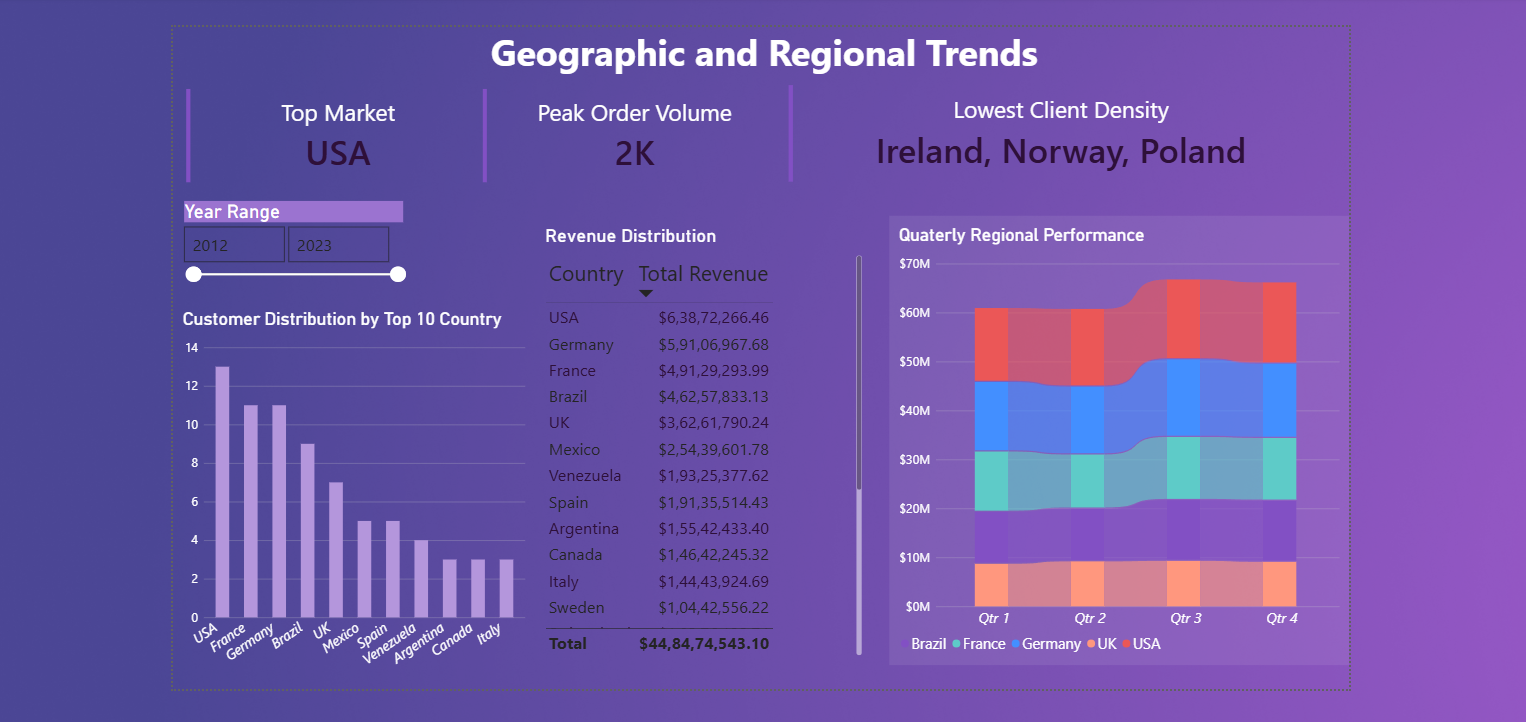

The dashboard page shown, as its layout file describes it:
{"tool":"powerbi","page":{"name":"Geographic and Regional Trends","canvas":[1920,1080],"ordinal":1},"visuals":[{"type":"textbox","box":[10.3,0,1910.1,88.5],"z":0},{"type":"cardVisual","title":"Top Market","fields":{"Data":["Min(Orders.ShipCountry)","_Measures.Total Orders"]},"box":[11.1,88.9,982.2,175.6],"z":1000},{"type":"cardVisual","fields":{"Data":["_Measures.Country With Least Customers"]},"box":[993.3,84.4,891.1,180],"z":2000},{"type":"ribbonChart","title":"Quaterly Regional Performance","fields":{"Category":["Orders.OrderDate.Variation.Date Hierarchy.Quarter"],"Series":["Orders.ShipCountry"],"Y":["_Measures.Total Revenue"]},"box":[1168.9,308.9,751.1,733.3],"z":3000},{"type":"slicer","fields":{"Values":["Orders.OrderDate.Variation.Date Hierarchy.Year"]},"box":[11.1,284.4,373.3,231.1],"z":4000},{"type":"columnChart","title":"Customer Distribution by Top 10 Country","fields":{"Category":["Customers.Country"],"Y":["CountNonNull(Customers.CustomerID)"]},"box":[0,444.4,591.1,635.6],"z":5000},{"type":"tableEx","title":"Revenue Distribution ","fields":{"Values":["Orders.ShipCountry","_Measures.Total Revenue"]},"box":[591.1,308.9,548.9,733.3],"z":6000}]}

Visuals, with their boxes on the page's 1920x1080 design canvas (x1, y1, x2, y2). These are canvas units, not pixel positions in the 1526x722 screenshot, which may show the page scaled, cropped or inside an application window:
textbox: box(10, 0, 1920, 88)
"Top Market" cardVisual: box(11, 89, 993, 264)
cardVisual - _Measures.Country With Least Customers: box(993, 84, 1884, 264)
"Quaterly Regional Performance" ribbonChart: box(1169, 309, 1920, 1042)
slicer - Orders.OrderDate.Variation.Date Hierarchy.Year: box(11, 284, 384, 516)
"Customer Distribution by Top 10 Country" columnChart: box(0, 444, 591, 1080)
"Revenue Distribution " tableEx: box(591, 309, 1140, 1042)
